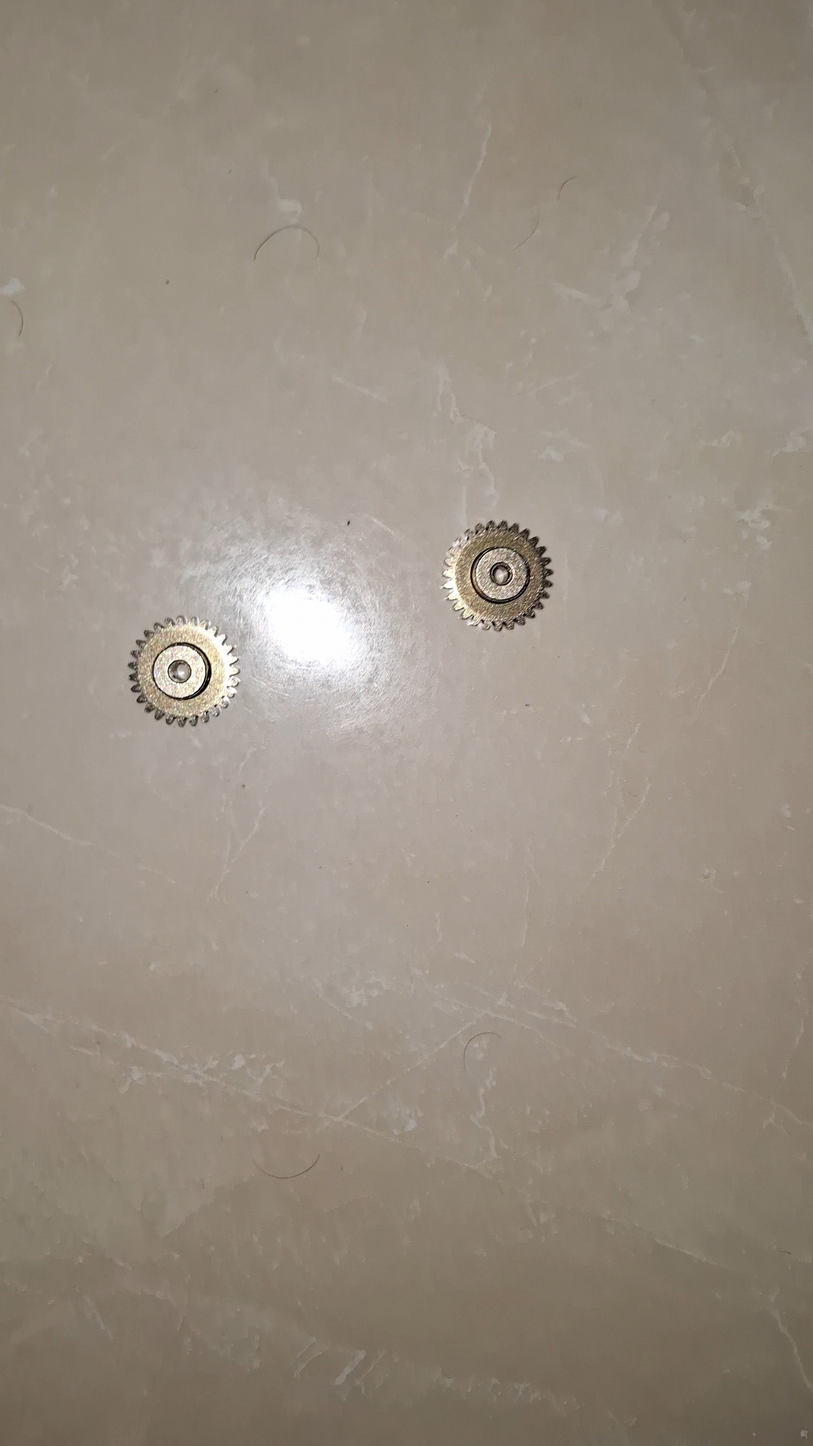spur gear: (130, 616, 239, 726), (444, 521, 552, 630)
